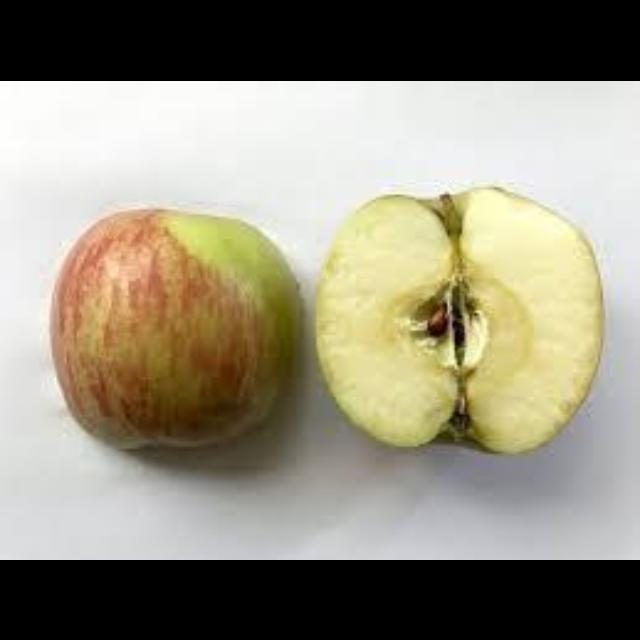apple: (316, 186, 603, 451), (49, 208, 299, 443)
